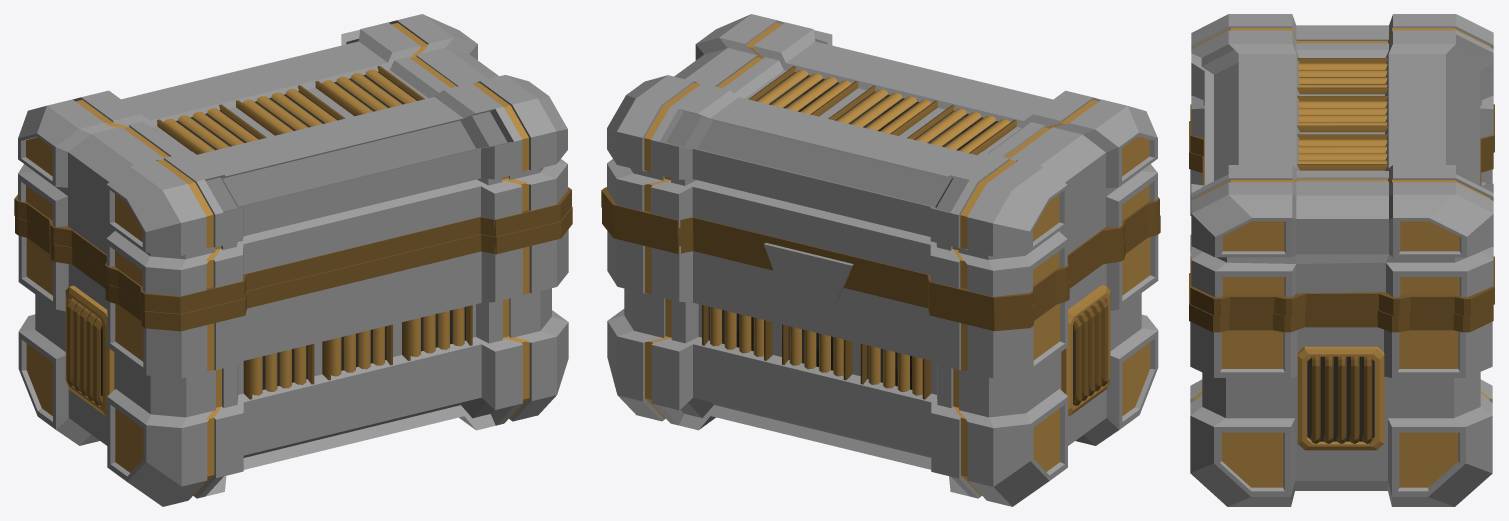
The model's file is Props_Chest.glb.
3 renders of one model, left to right at view 1: azimuth 30°, elevation 25°; view 2: azimuth 150°, elevation 25°; view 3: azimuth 270°, elevation 25°, orthographic.
Visible parts, largest first — view 1: Props_Chest; view 2: Props_Chest; view 3: Props_Chest.
Boxes of the visible parts, x1,y1,x2,y2 form: Props_Chest: (14, 14, 572, 506); Props_Chest: (601, 14, 1160, 506); Props_Chest: (1189, 14, 1494, 506).
Size of the model in its own units: 1.29 by 0.911 by 0.8082.
